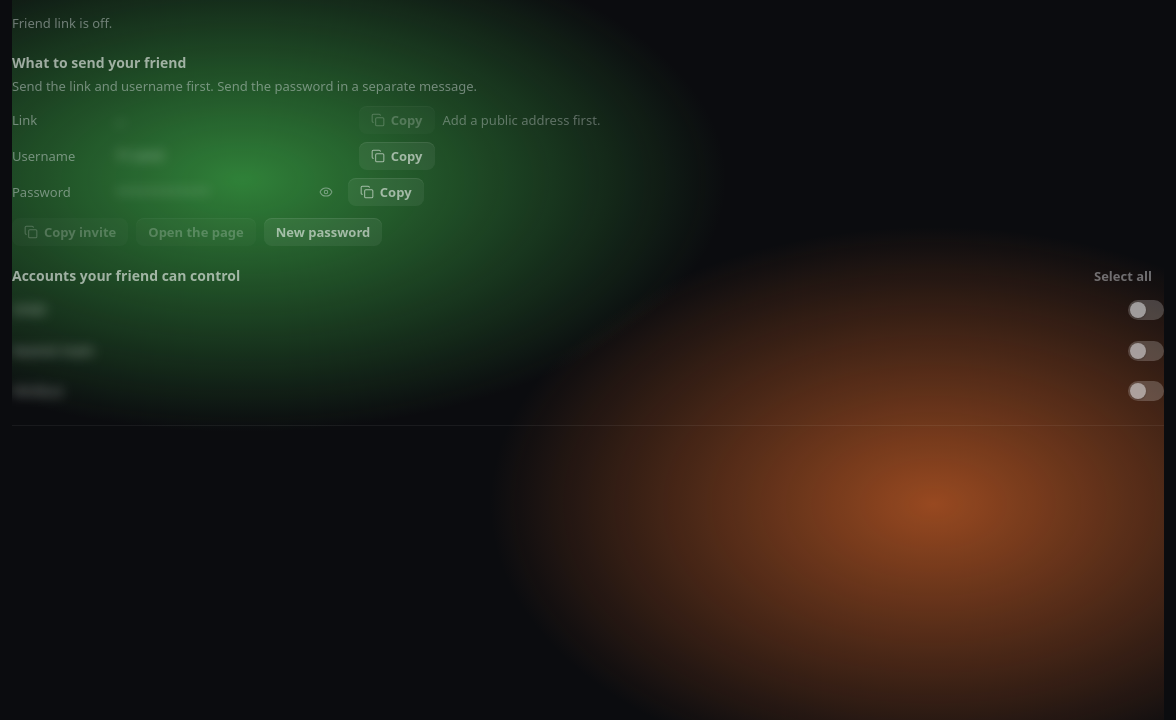
Test case: a failed new password says why and keeps the old one
Click the button "New password": (323, 232) [264, 218, 382, 246]
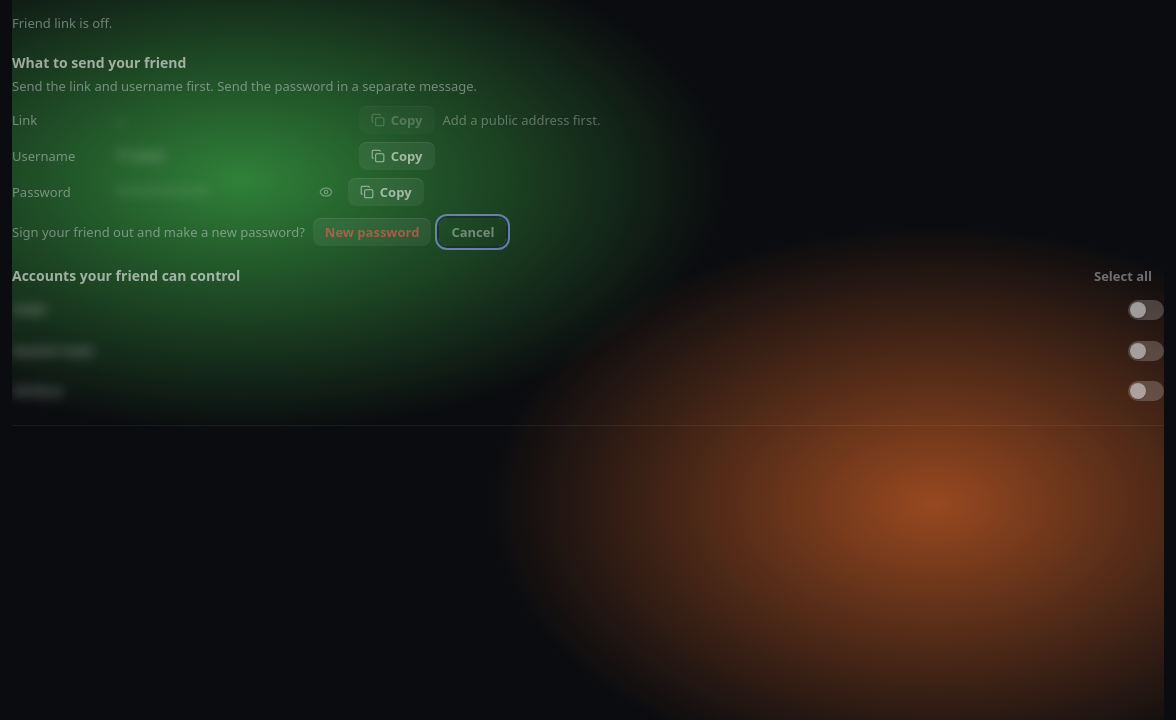
Click the button "New password": (372, 232) [313, 218, 431, 246]
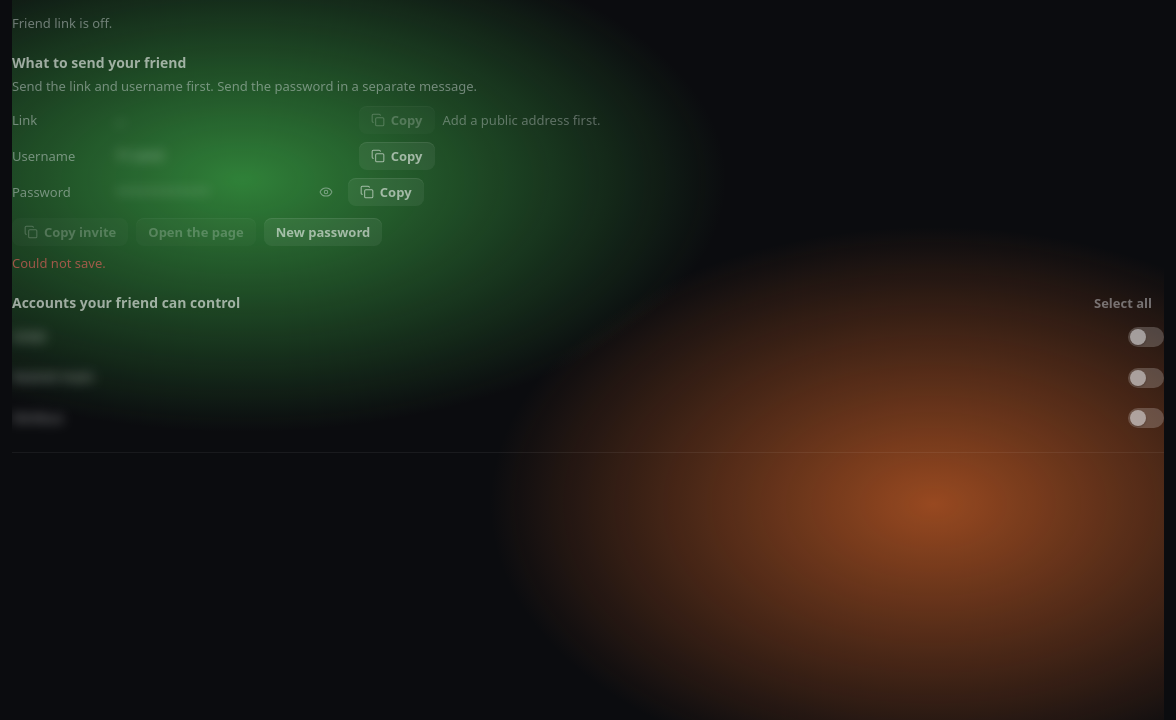
Now the message "Could not save." is shown, box [12, 254, 106, 272]
